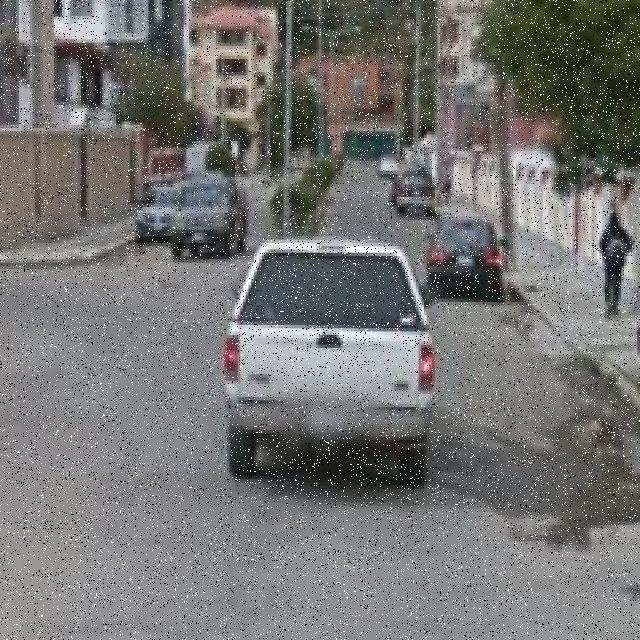cars: (229, 238, 435, 496), (434, 210, 505, 294), (174, 169, 240, 253), (395, 166, 444, 212), (144, 177, 170, 246)
